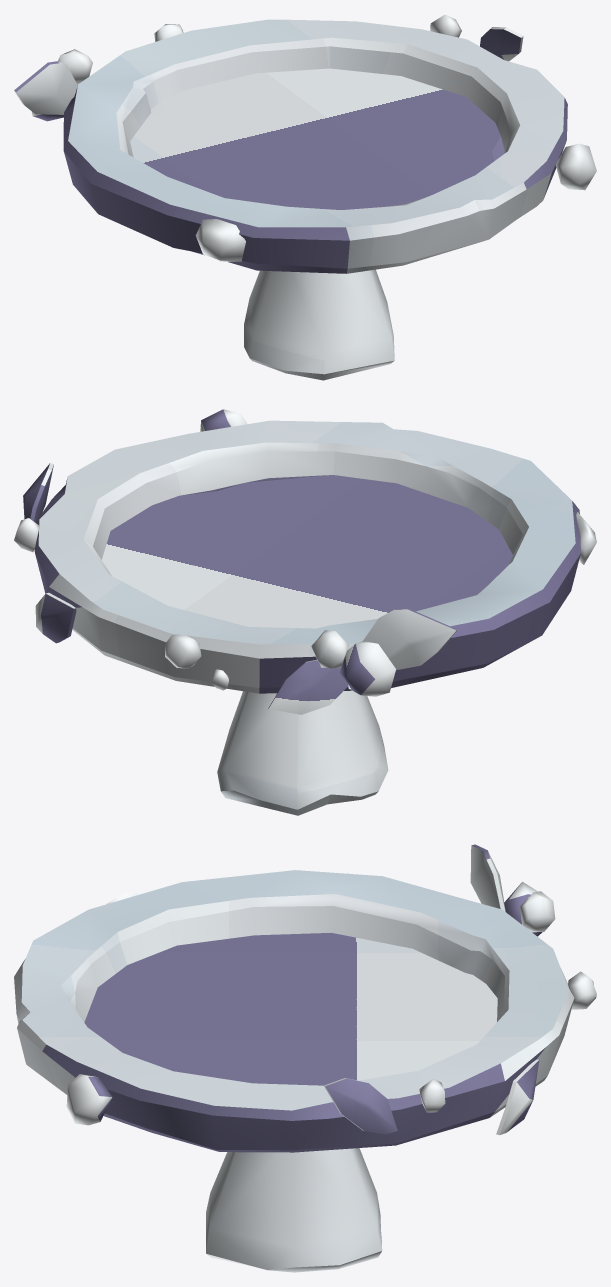
Rendered from Prop_MooncakePlate.glb.
3 renders of one model, top to bottom at view 1: azimuth 30°, elevation 25°; view 2: azimuth 150°, elevation 25°; view 3: azimuth 270°, elevation 25°, orthographic. The views are drawn at different scales.
Parts seen in each view (by area): view 1: Prop_MooncakePlate; view 2: Prop_MooncakePlate; view 3: Prop_MooncakePlate.
Boxes of the visible parts, <box> form: Prop_MooncakePlate: <box>14,14,596,380</box>; Prop_MooncakePlate: <box>14,409,596,815</box>; Prop_MooncakePlate: <box>14,844,596,1272</box>.
Bounding box in the file's own units: 5.25 × 2.92 × 5.32.
Materials: 1 (1 with a texture image).
